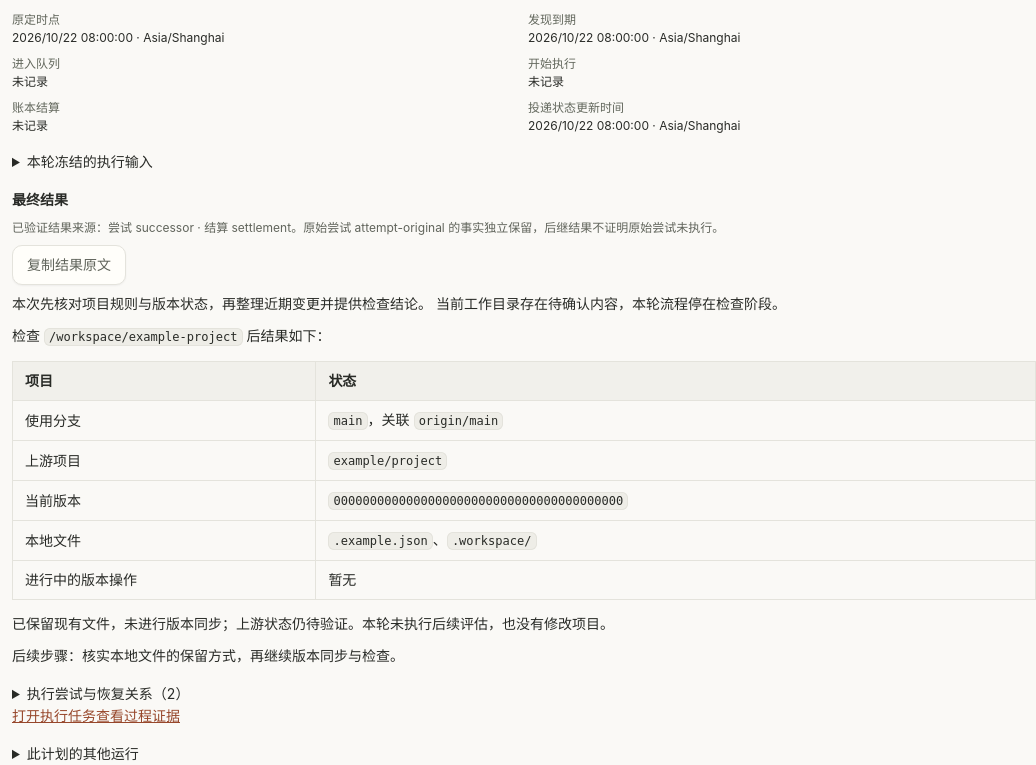
Test: one automation run › shows audited manual successors without rewriting the original unknown execution
This screenshot has width=1036, height=765.
(page scrolled)
Expected: the table is shown, [12,361,1035,600]
Click the heading "执行尝试与恢复关系（2）" at (108, 694), box [27,685,189,702]
(page scrolled)
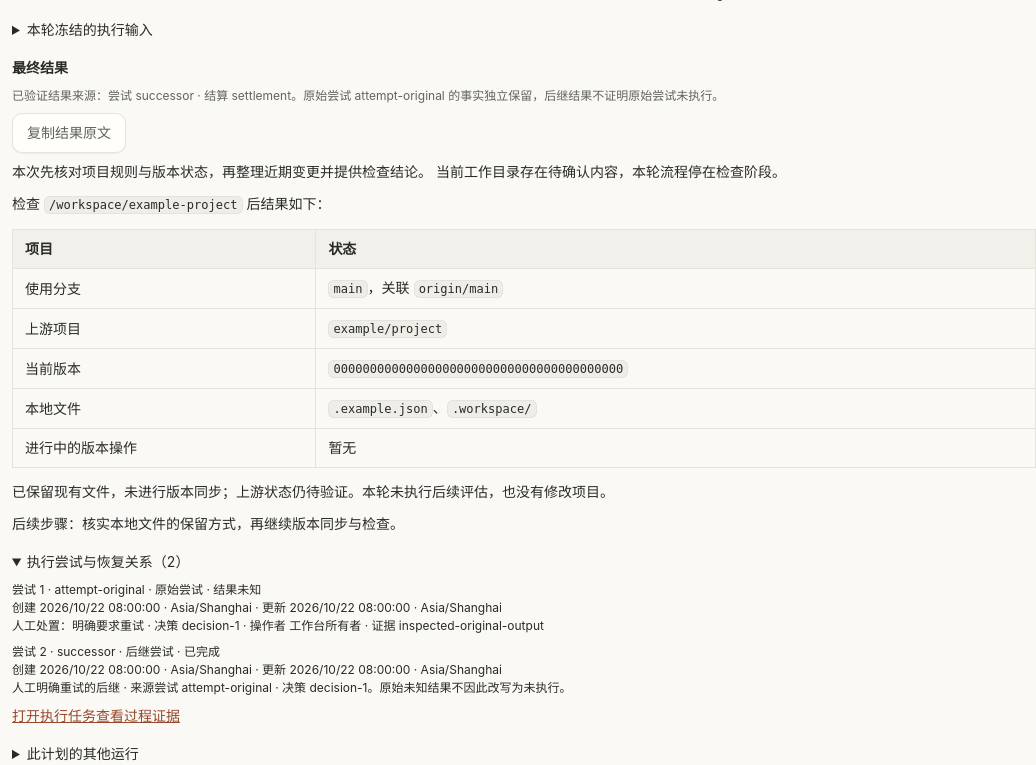
Expected: the text "尝试 1 · attempt-original · 原始尝试 · 结果未知" is shown, [12,582,261,597]
Expected: the text "人工明确重试的后继 · 来源尝试 attempt-original · 决策 decision-1" is shown, [12,680,572,695]
Expected: the text "操作者 工作台所有者" is shown, [12,618,544,633]
